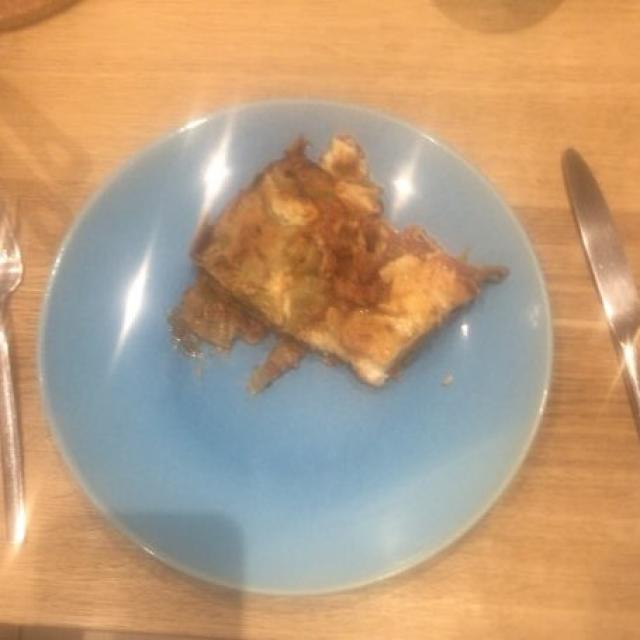lasagne-meat-prepared: (177, 137, 497, 386)
